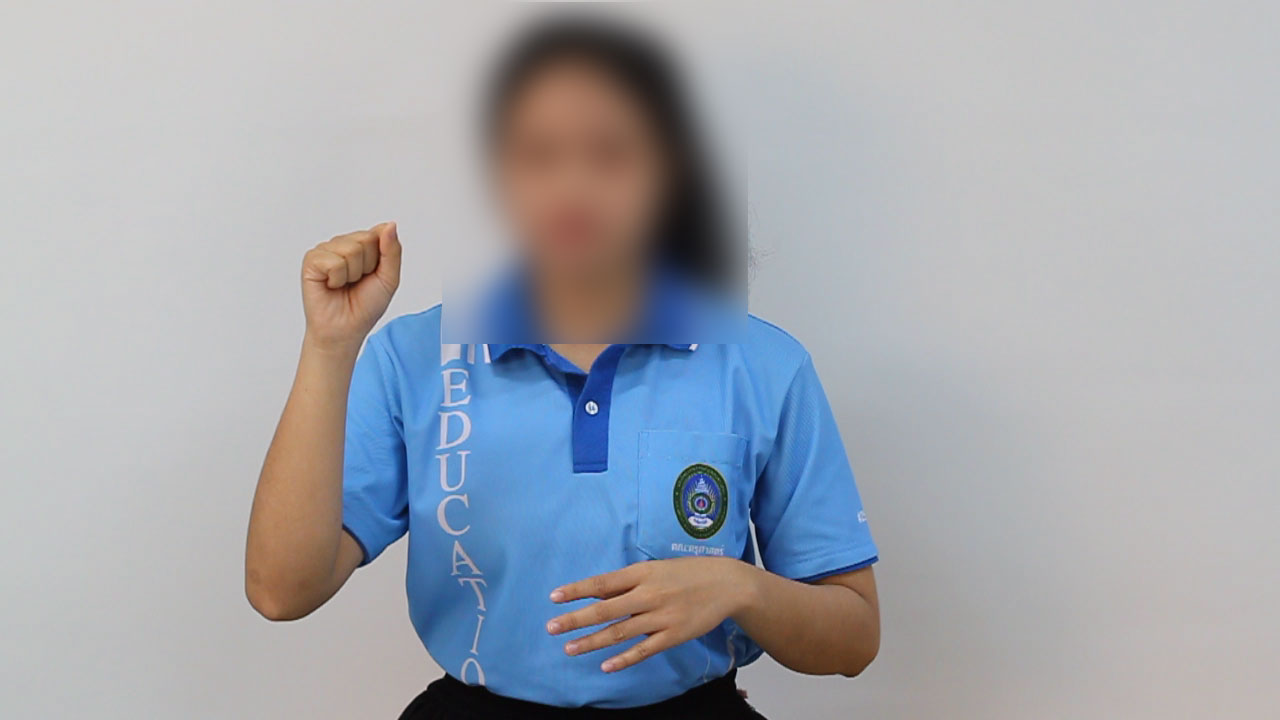sor: (292, 202, 407, 347)
